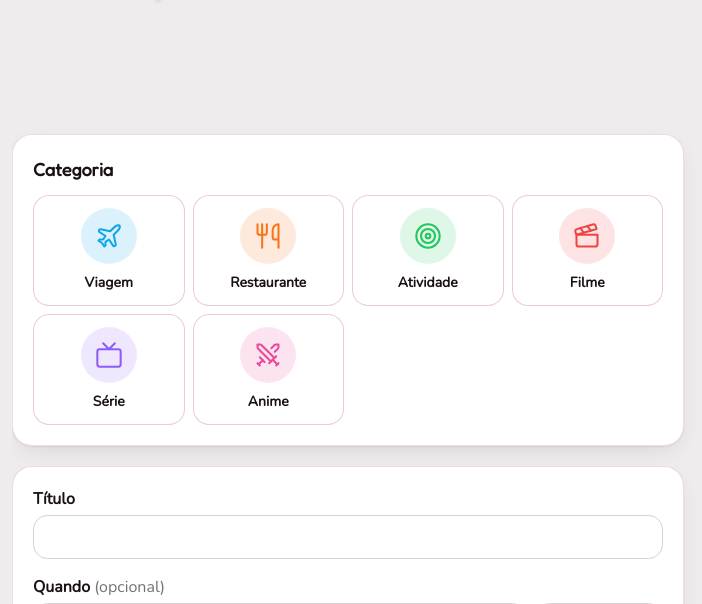
Test case: typing again during a search never ends in a false error
The width and height of the screenshot is (702, 604).
Click the button "Restaurante": (268, 250) [192,195,344,306]
(page scrolled)
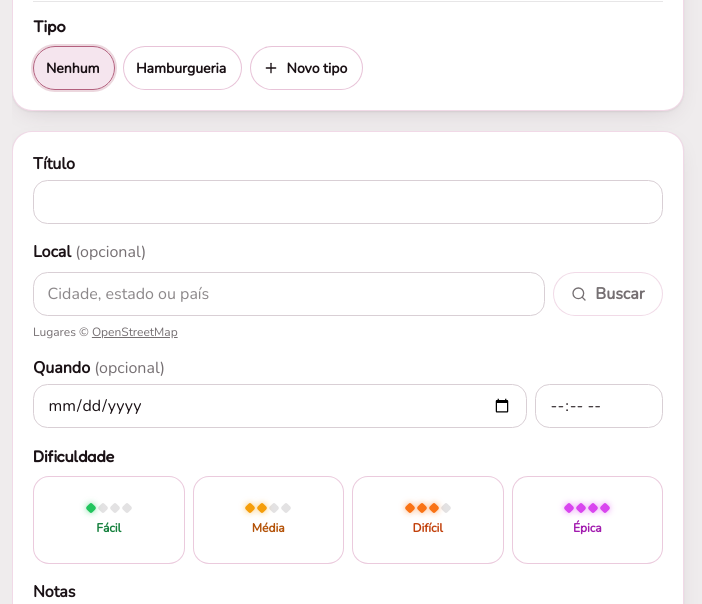
In the field labelled "Local (opcional)": (289, 294) [33,272,545,316], type "Ribeirão"
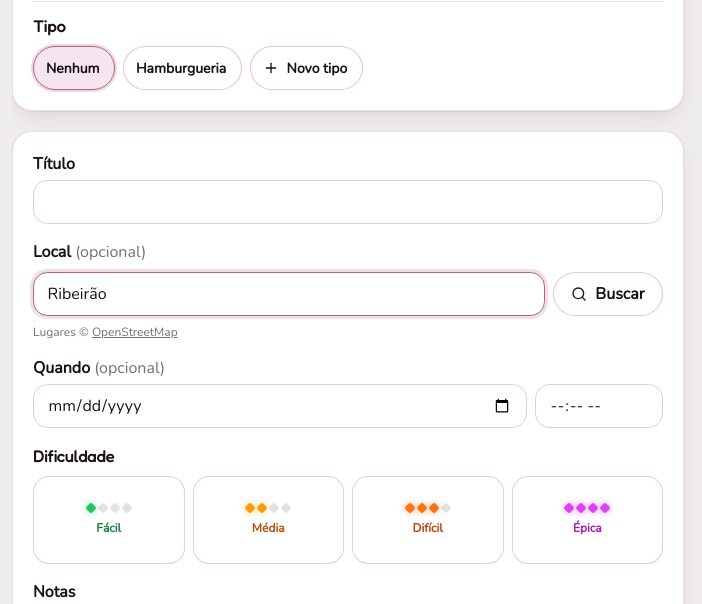
Click the button "Buscar": (608, 294) [553,272,663,316]
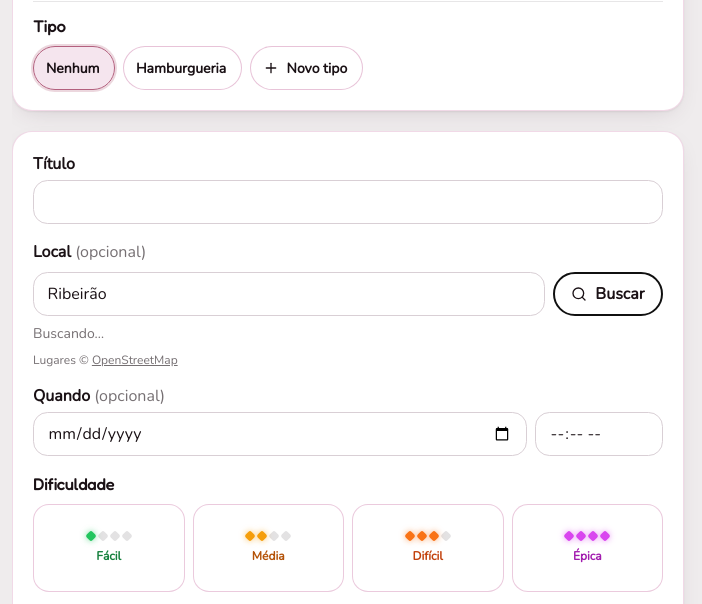
In the field labelled "Local (opcional)": (289, 294) [33,272,545,316], type " Preto"
Wait 10000 ms
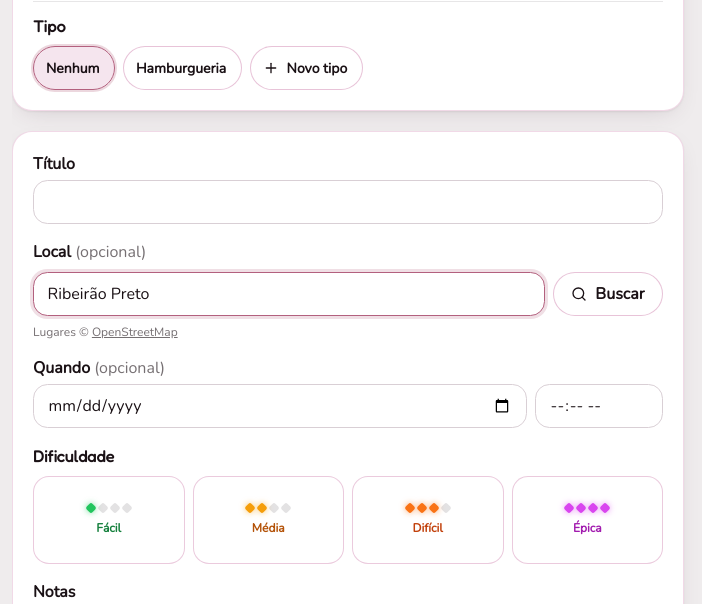
Expected: the message "Buscando…" is gone
